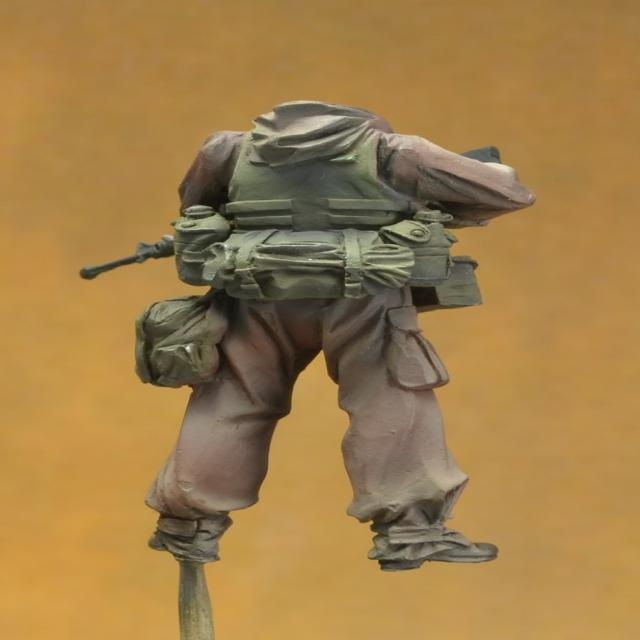Toy: (78, 101, 536, 640)
